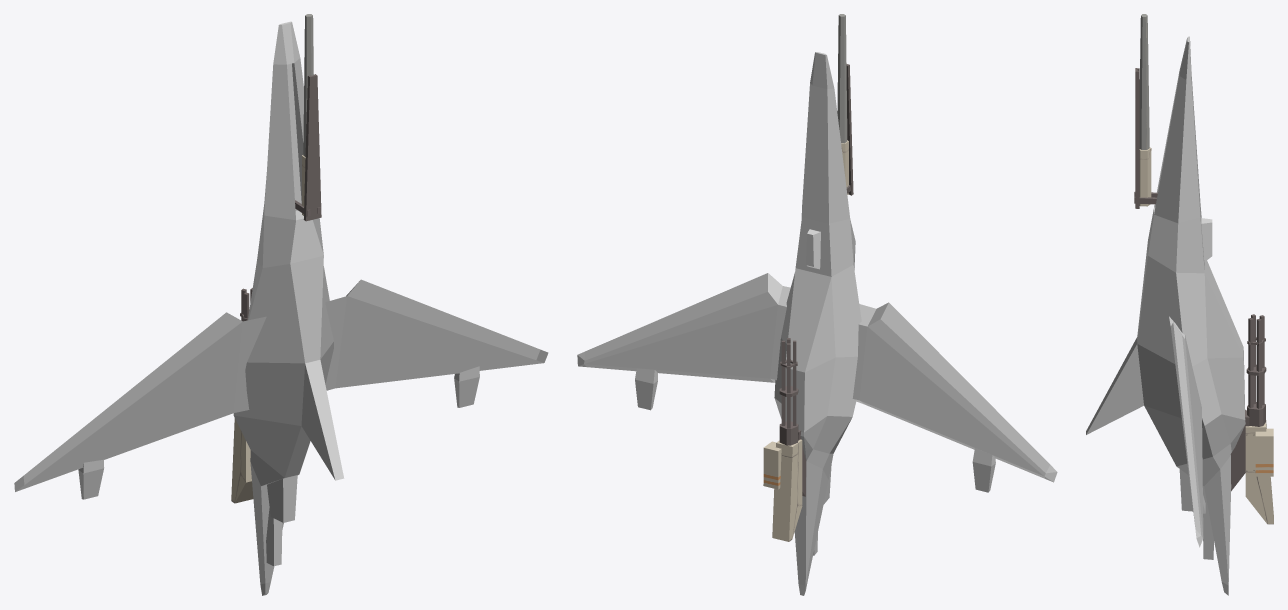
Rendered from PlayerShipFinal.fbx.
The picture shows the model from 3 angles, left to right: view 1: azimuth 30°, elevation 25°; view 2: azimuth 150°, elevation 25°; view 3: azimuth 270°, elevation 25°; orthographic projection. The views are drawn at different scales.
Visible parts, largest first — view 1: Main Ship, Main Gun - Main Body, Gyatling Weapon - Base, Main Gun - Front; view 2: Main Ship, Gyatling Weapon - Base, Gyatling Weapon - Actual Gun, Main Gun - Front, Main Gun - Main Body; view 3: Main Ship, Gyatling Weapon - Base, Gyatling Weapon - Actual Gun, Main Gun - Main Body, Main Gun - Front, Laser Weapon.
Part boxes in pixels (bbox=[...]): Main Ship: bbox=[14, 21, 548, 595]; Main Gun - Main Body: bbox=[295, 74, 321, 221]; Gyatling Weapon - Base: bbox=[231, 418, 253, 503]; Main Gun - Front: bbox=[303, 14, 313, 156]; Main Ship: bbox=[577, 52, 1057, 595]; Gyatling Weapon - Base: bbox=[763, 430, 806, 541]; Gyatling Weapon - Actual Gun: bbox=[779, 338, 798, 445]; Main Gun - Front: bbox=[837, 14, 847, 143]; Main Gun - Main Body: bbox=[841, 64, 853, 195]; Main Ship: bbox=[1086, 36, 1245, 595]; Gyatling Weapon - Base: bbox=[1230, 410, 1273, 524]; Gyatling Weapon - Actual Gun: bbox=[1246, 314, 1266, 426]; Main Gun - Main Body: bbox=[1134, 68, 1157, 208]; Main Gun - Front: bbox=[1139, 14, 1149, 149]; Laser Weapon: bbox=[1201, 218, 1212, 261].
Size of the model in its own units: 1062 by 1163 by 342.
